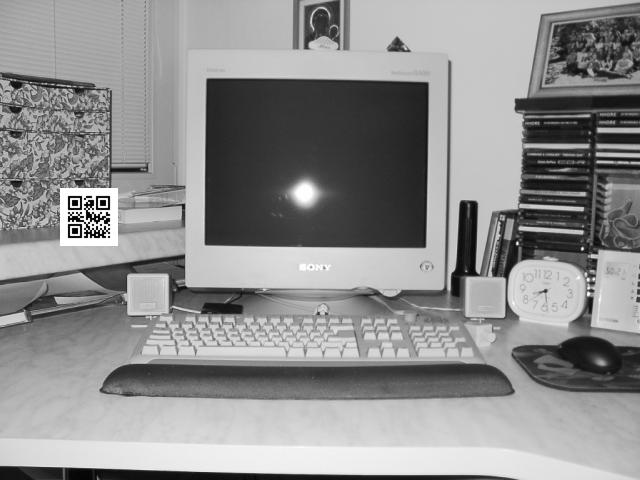qr_code: (63, 188, 115, 245)
